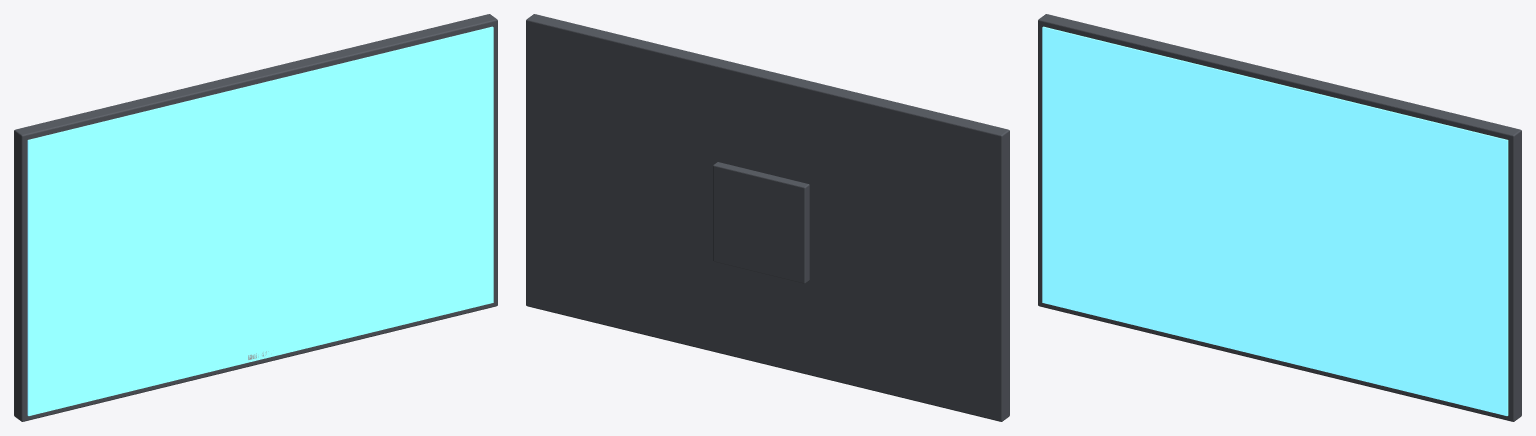
File: wall_display.glb
3 views of the same model, side by side, from view 1: azimuth 30°, elevation 25°; view 2: azimuth 150°, elevation 25°; view 3: azimuth 330°, elevation 25° (orthographic).
Parts seen in each view (by area): view 1: WallDisplay; view 2: WallDisplay; view 3: WallDisplay.
Part boxes in pixels (x1=…): WallDisplay: x1=14, y1=14, x2=497, y2=421; WallDisplay: x1=526, y1=14, x2=1009, y2=421; WallDisplay: x1=1038, y1=14, x2=1521, y2=421.
Bounding box in the file's own units: 1.98 × 1.14 × 0.1032.
